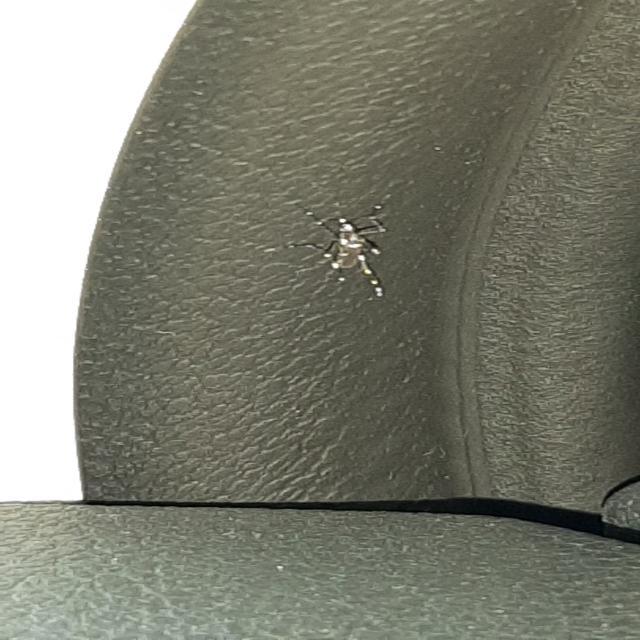albopictus: (265, 198, 405, 299)
